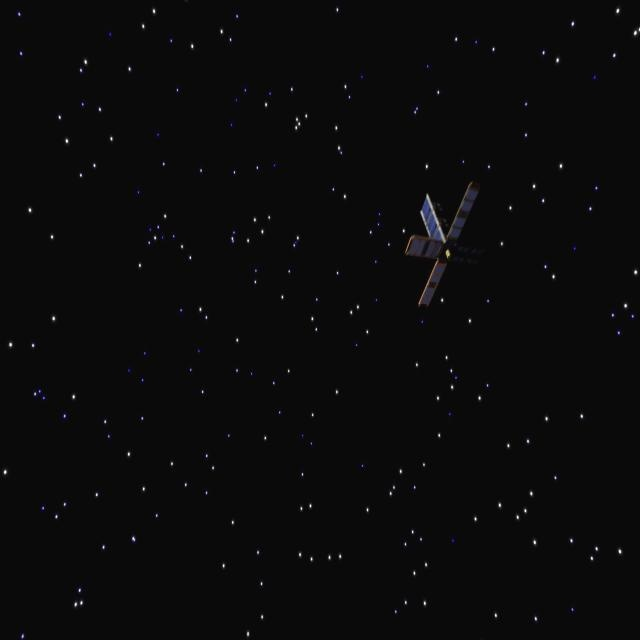satellite: (408, 170, 487, 316)
